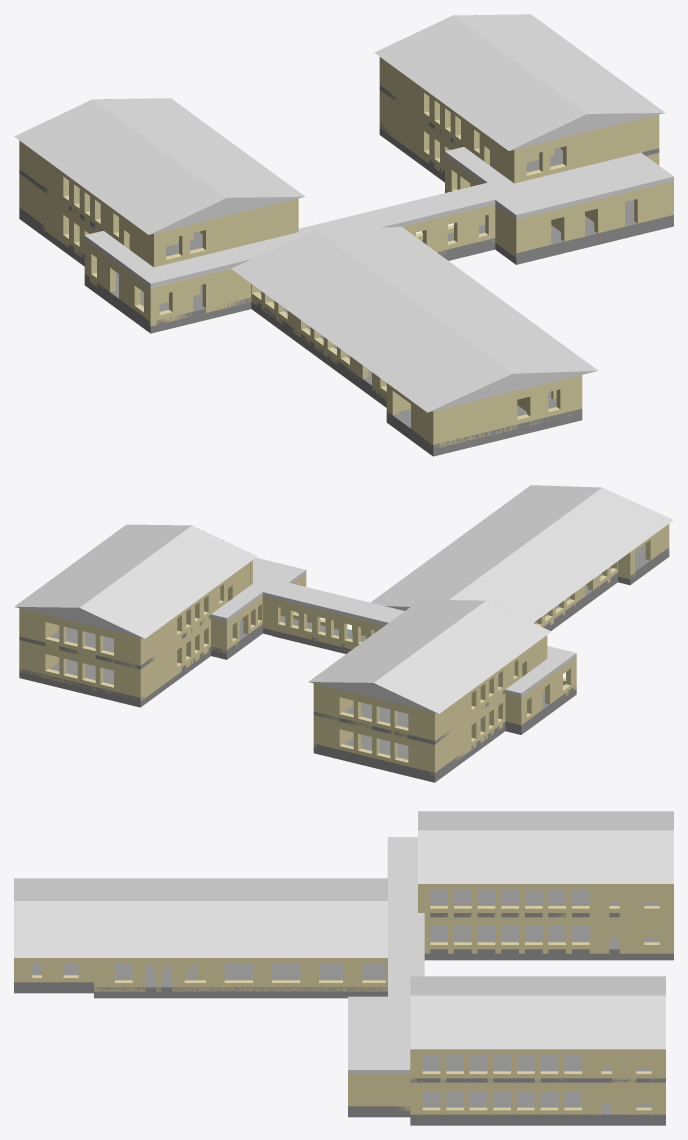
File: horska618.gltf
3 renders of one model, top to bottom at view 1: azimuth 30°, elevation 25°; view 2: azimuth 150°, elevation 25°; view 3: azimuth 270°, elevation 25°, orthographic. The views are drawn at different scales.
Visible parts, largest first — view 1: 2.patro-patro-2._Patro, Prizemi-patro-Přízemí, 1.patro-patro-1._Patro; view 2: 2.patro-patro-2._Patro, Prizemi-patro-Přízemí, 1.patro-patro-1._Patro; view 3: 2.patro-patro-2._Patro, Prizemi-patro-Přízemí, 1.patro-patro-1._Patro.
Part boxes in pixels (x1,y1,x2,y2): 2.patro-patro-2._Patro: (14,14,673,412); Prizemi-patro-Přízemí: (19,90,673,456); 1.patro-patro-1._Patro: (19,57,659,267); 2.patro-patro-2._Patro: (14,485,673,713); Prizemi-patro-Přízemí: (19,524,669,782); 1.patro-patro-1._Patro: (19,560,547,744); 2.patro-patro-2._Patro: (14,811,673,1074); Prizemi-patro-Přízemí: (14,841,673,1125); 1.patro-patro-1._Patro: (410,884,673,1082).
Bounding box in the file's own units: 980 × 181 × 1118.
3 materials, 1 textured.
